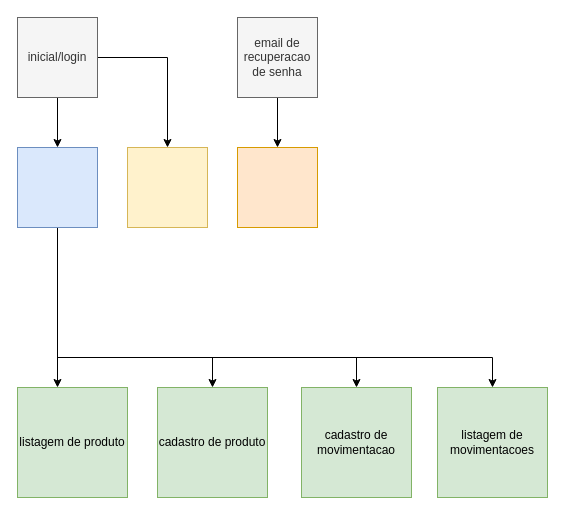
Some shapes in this 565 by 515 pixel diagram are drawn without their labels. Each missing label, with the centre of its shape:
"cadastro" goes at point 167,187.
"home" goes at point 57,187.
"recuperacao de senha" goes at point 277,187.
